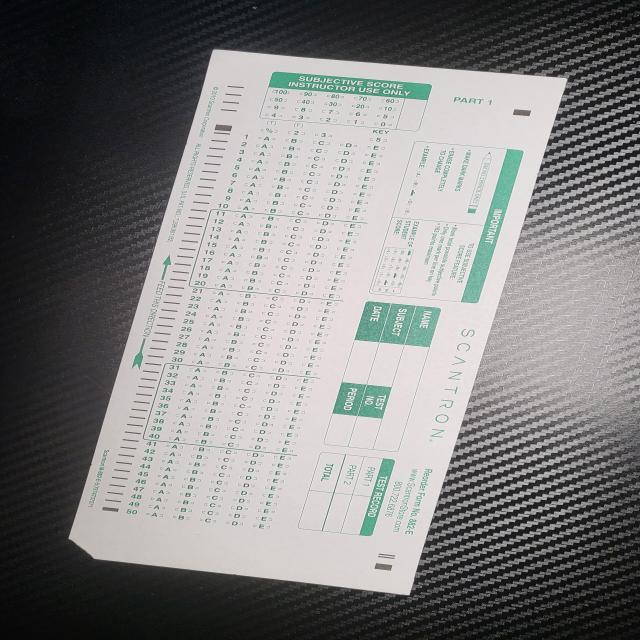scantron: (70, 50, 569, 597)
